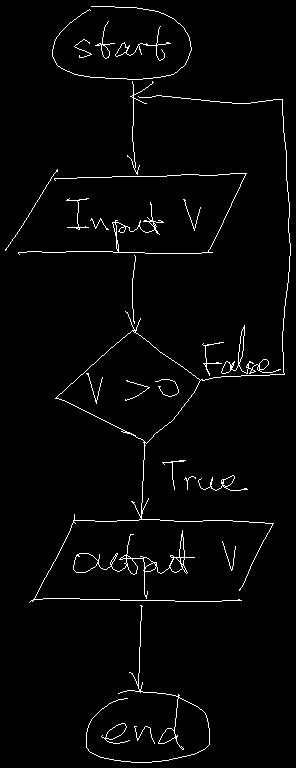arrow: (130, 81, 290, 380), (131, 442, 148, 518), (125, 255, 140, 332), (129, 605, 142, 692), (127, 81, 139, 174)
data: (29, 514, 273, 602), (5, 169, 246, 254)
decision: (55, 330, 200, 443)
terminator: (52, 6, 191, 79), (86, 690, 209, 762)
text: (73, 530, 235, 598), (66, 198, 200, 251), (101, 694, 183, 749), (202, 325, 280, 375), (74, 21, 170, 60), (86, 373, 178, 403), (162, 460, 247, 490)
